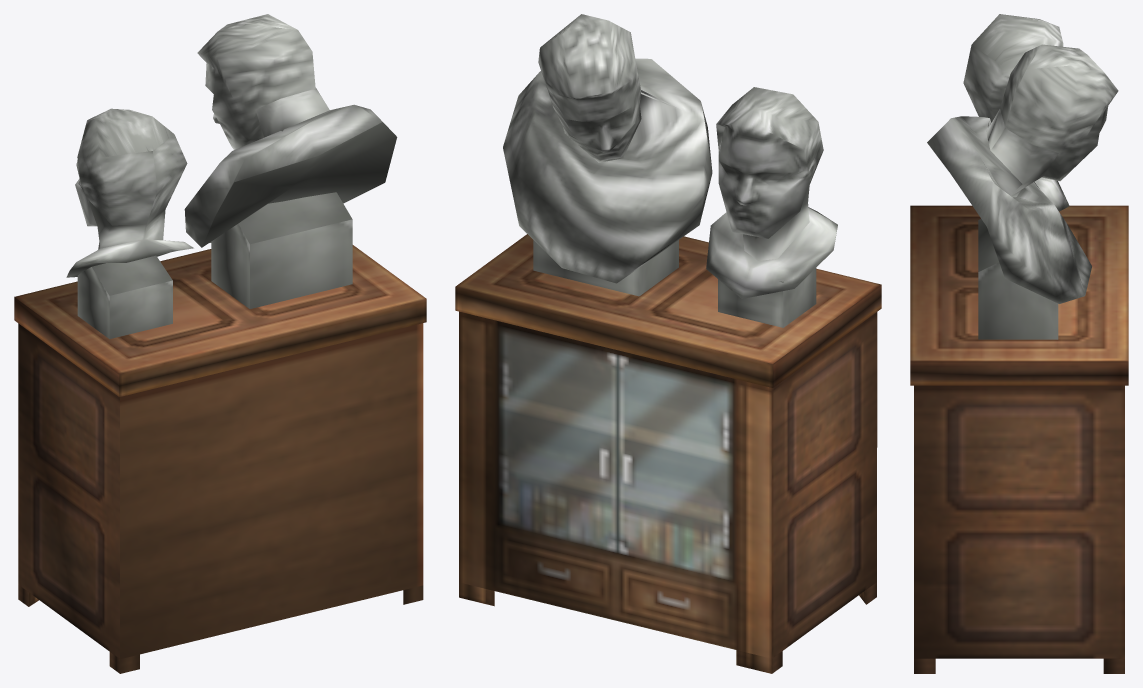
The model's file is a_SCstatue03.glb.
3 renders of one model, left to right at view 1: azimuth 30°, elevation 25°; view 2: azimuth 150°, elevation 25°; view 3: azimuth 270°, elevation 25°, orthographic. The views are drawn at different scales.
Visible parts, largest first — view 1: a_SCstatue03; view 2: a_SCstatue03; view 3: a_SCstatue03.
Part boxes in pixels (x1=…): a_SCstatue03: x1=14, y1=14, x2=426, y2=673; a_SCstatue03: x1=455, y1=14, x2=881, y2=673; a_SCstatue03: x1=910, y1=14, x2=1128, y2=673.
Bounding box in the file's own units: 0.9835 × 1.65 × 0.5662.
3 materials, 3 textured.
